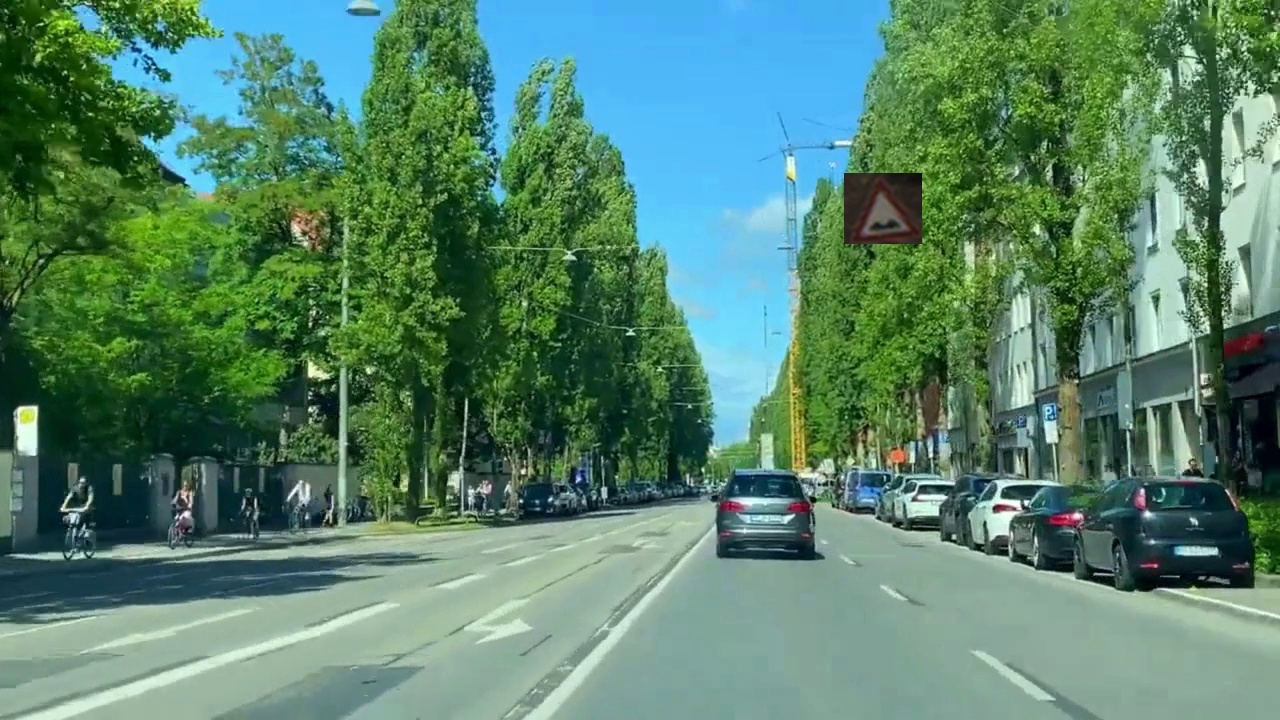Bumpy road: (844, 173, 922, 244)
